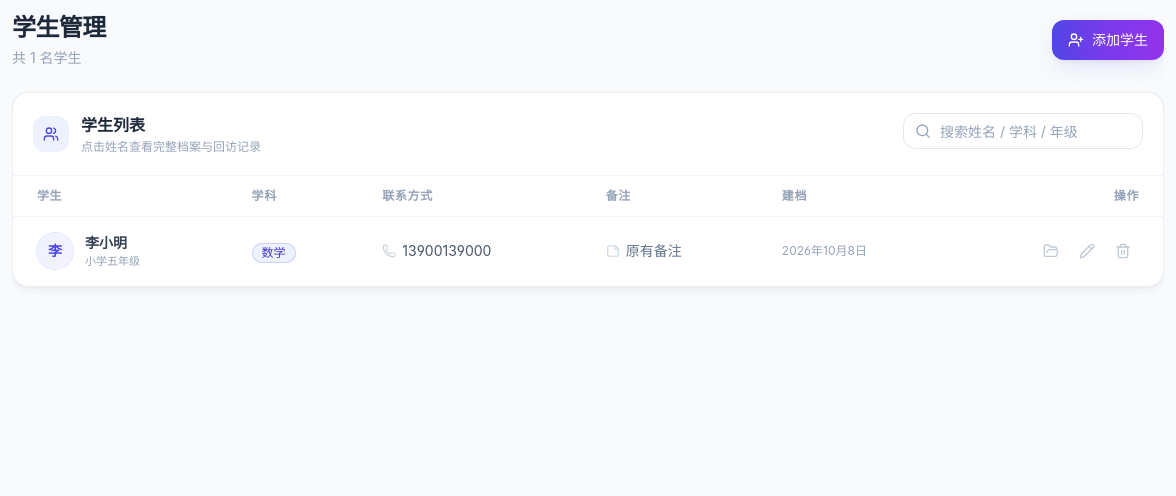
Test: 学生管理 · 编辑 › 打开编辑弹窗并预填原有信息
The image size is (1176, 496).
Expected: the text "李小明" is shown, [85, 234, 127, 251]
Click the button titled "编辑": (1087, 251) [1071, 235, 1103, 267]
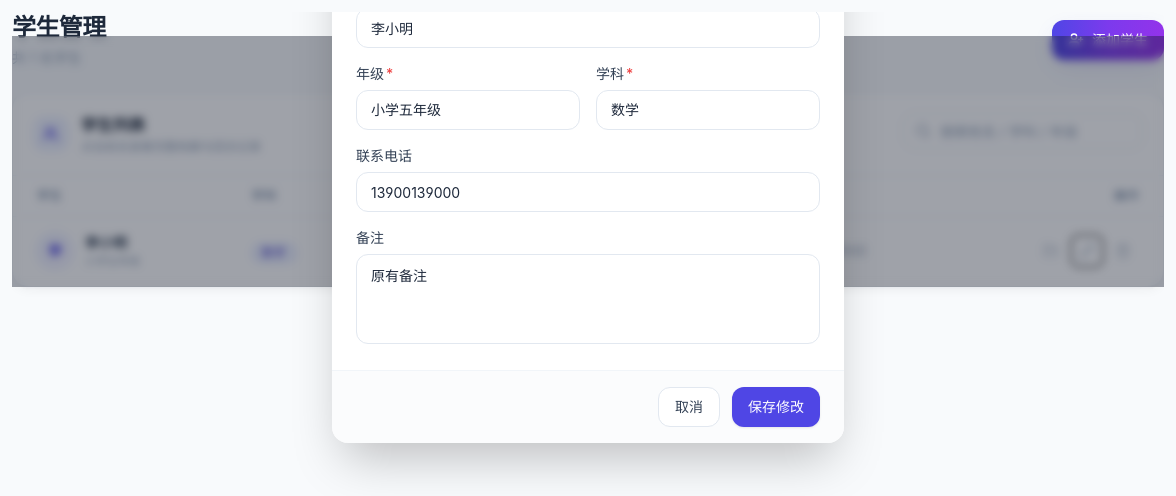
Now the text box labelled "备注" holds "原有备注", box [356, 254, 820, 344]
